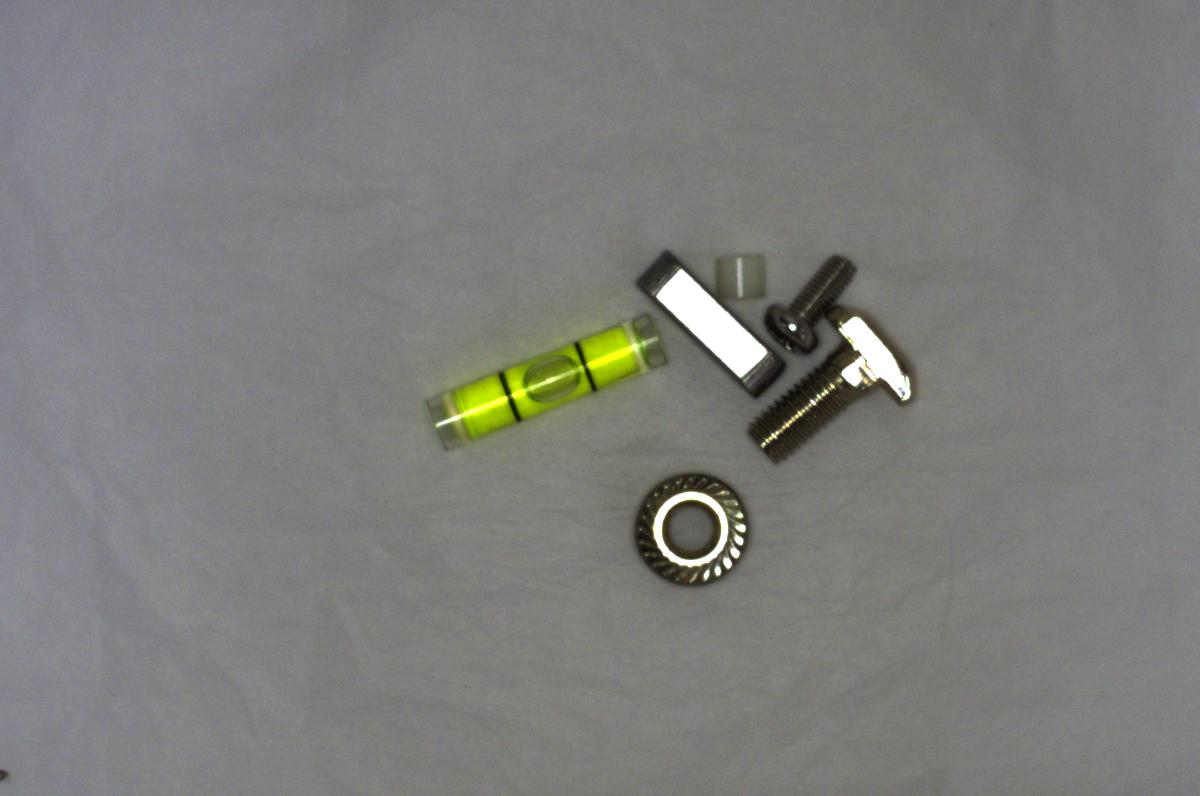Flange nut: (618, 463, 750, 595)
Horizontal bubble: (402, 302, 667, 453)
Keybar: (635, 246, 786, 396)
Plastic cushion pillar: (705, 241, 773, 303)
Round head screw: (766, 243, 859, 352)
T-shaped screw: (738, 305, 922, 469)
